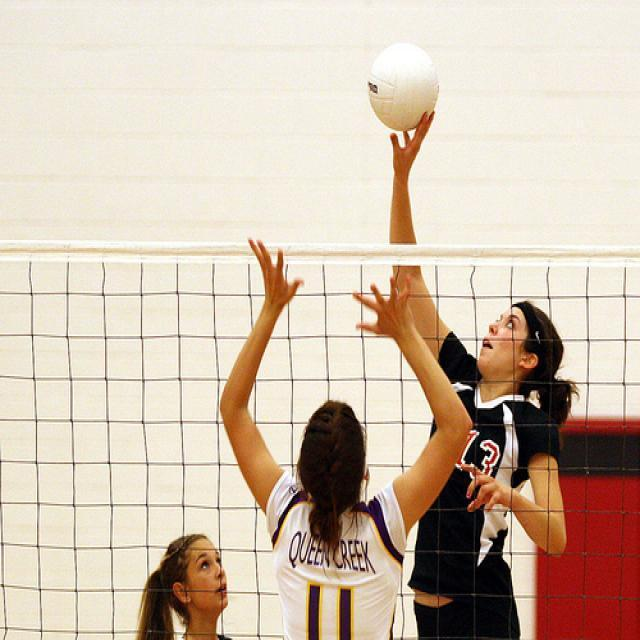volleyball: (368, 44, 438, 131)
